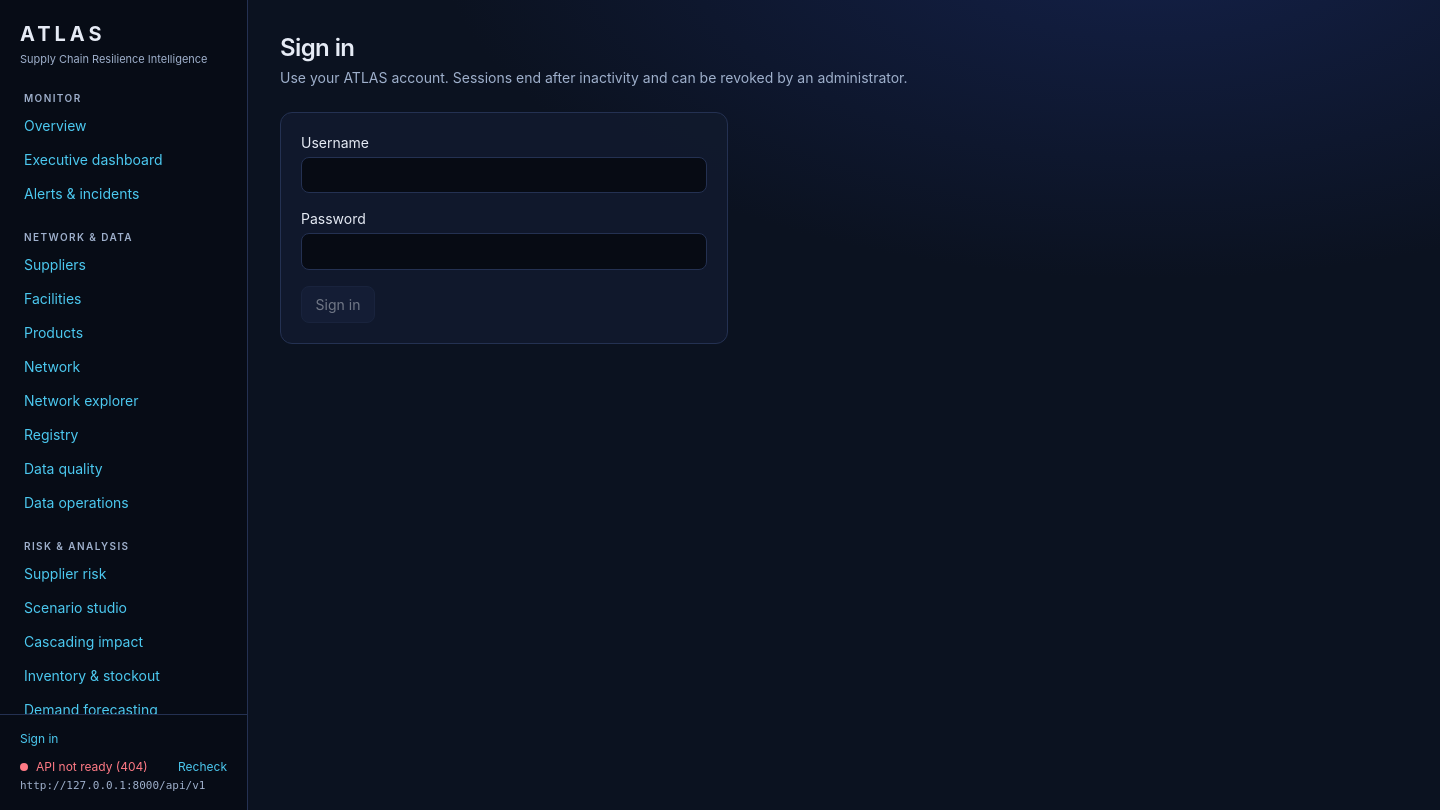
it: sign in › shows the server's generic error, keeps no token and clears the password field
Type "vera" into the field labelled "Username". click: (504, 175)
box: x1=301 y1=157 x2=707 y2=193
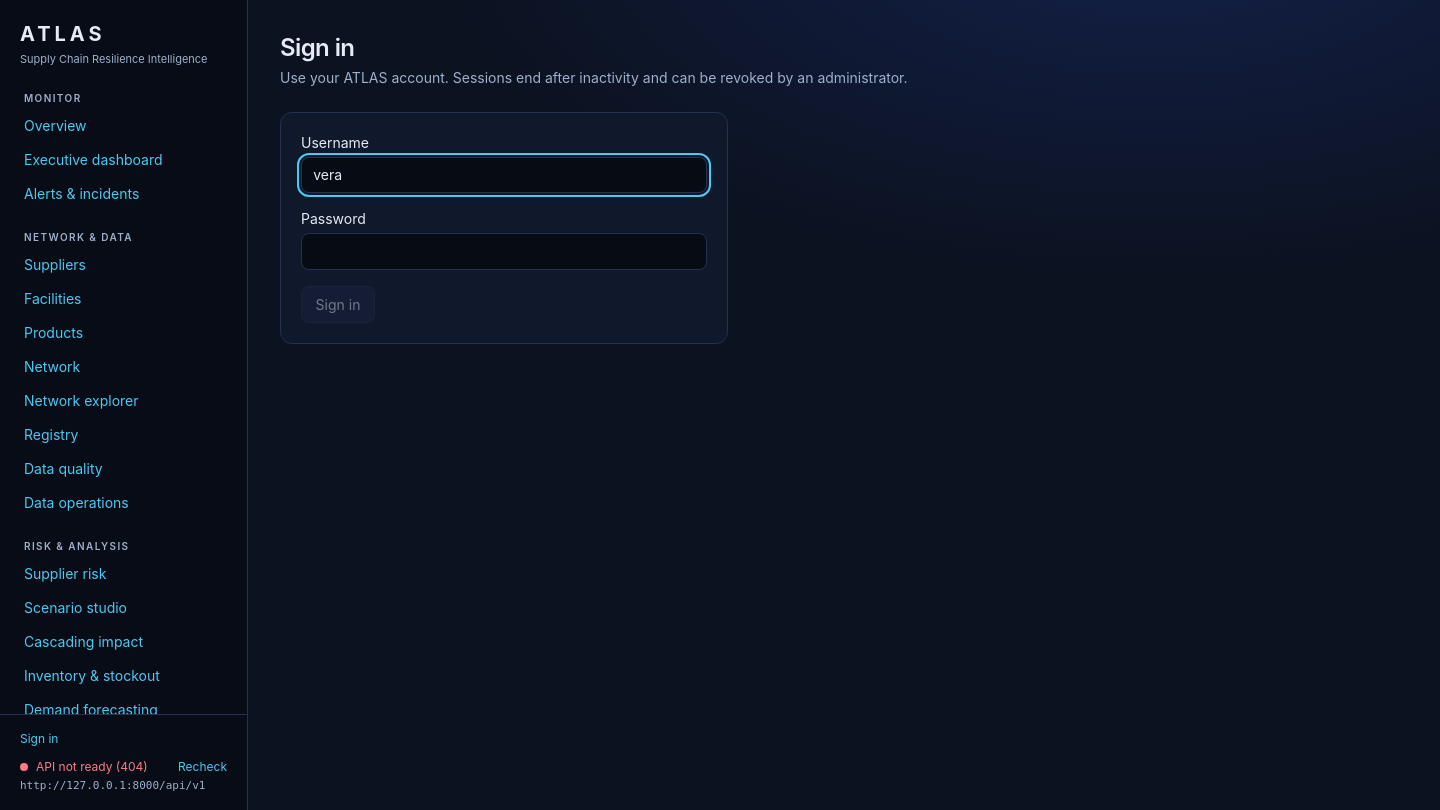
Type "wrong-password-123" into the password field labelled "Password". click: (504, 252)
box: x1=301 y1=233 x2=707 y2=270
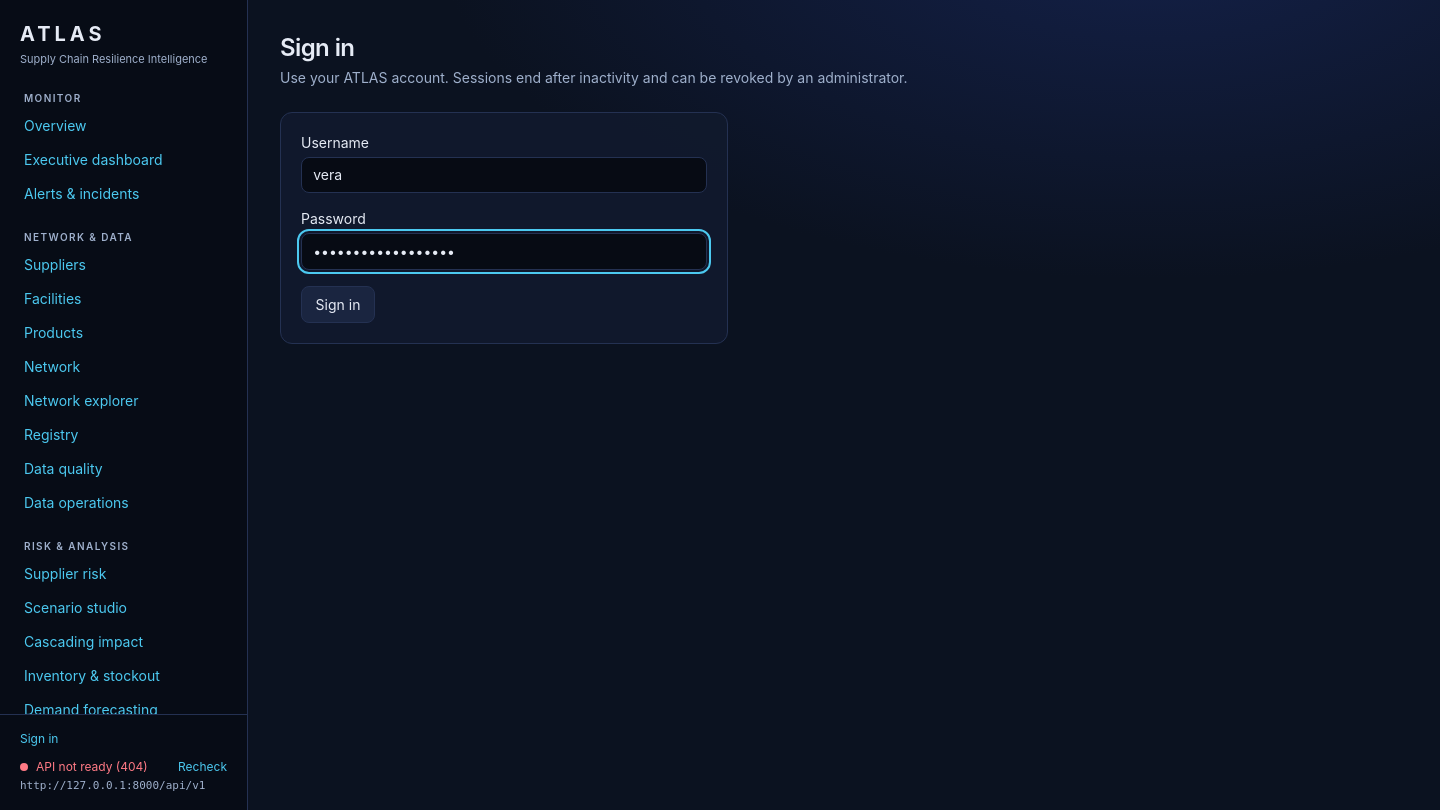
Click the button "Sign in". click: (338, 304)
box: x1=301 y1=286 x2=375 y2=323
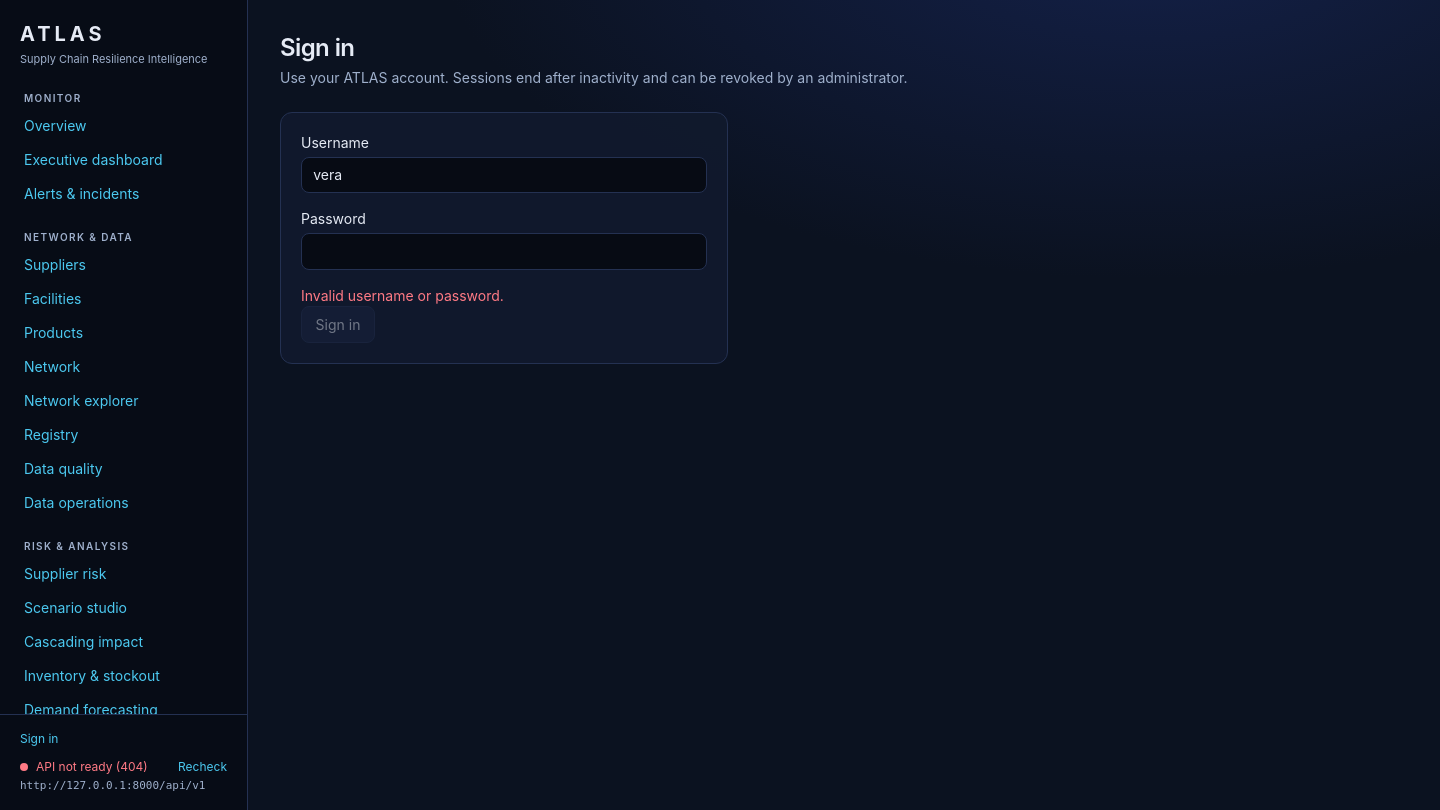
expect the message reads "Invalid username or password.": met, box x1=301 y1=287 x2=504 y2=304
expect the password field labelled "Password" is empty: met, box x1=301 y1=233 x2=707 y2=270
